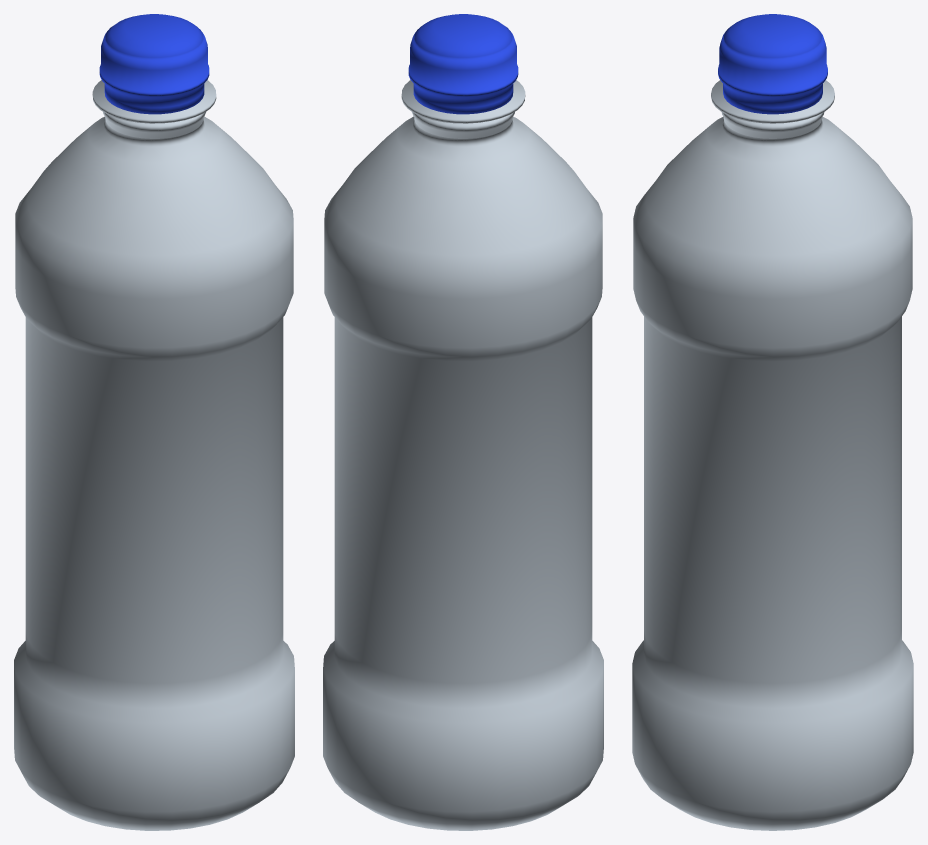
Rendered from bottle.dae.
The picture shows the model from 3 angles, left to right: view 1: azimuth 30°, elevation 25°; view 2: azimuth 150°, elevation 25°; view 3: azimuth 270°, elevation 25°; orthographic projection.
Parts seen in each view (by area): view 1: Cylinder.003, Cylinder.002; view 2: Cylinder.003, Cylinder.002; view 3: Cylinder.003, Cylinder.002.
Boxes of the visible parts, bbox=[...] form: Cylinder.003: bbox=[14, 80, 294, 830]; Cylinder.002: bbox=[99, 14, 209, 114]; Cylinder.003: bbox=[323, 80, 603, 830]; Cylinder.002: bbox=[408, 14, 518, 114]; Cylinder.003: bbox=[632, 80, 913, 830]; Cylinder.002: bbox=[718, 14, 827, 114].
Size of the model in its own units: 2.15 by 2.15 by 6.39.
